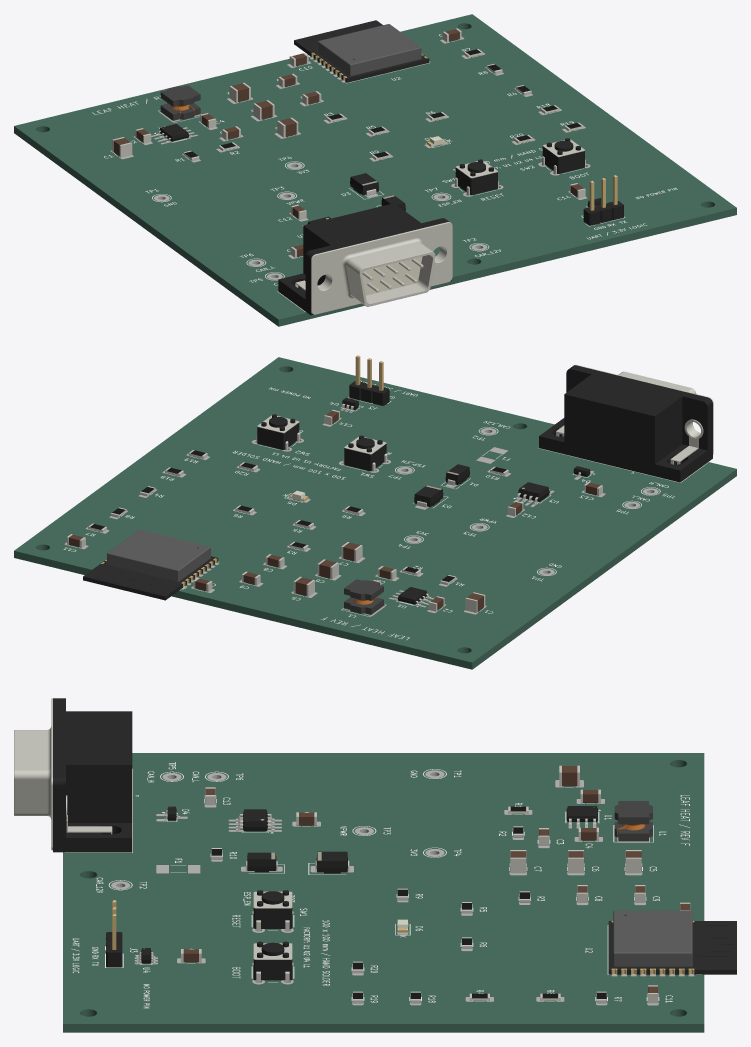
File: leaf-heat-rev-f.glb
3 views of the same model, one above another, from view 1: azimuth 30°, elevation 25°; view 2: azimuth 150°, elevation 25°; view 3: azimuth 270°, elevation 25° (orthographic). The views are drawn at different scales.
Parts seen in each view (by area): view 1: =>[0:1:1:35], =>[0:1:1:11], =>[0:1:1:7], =>[0:1:1:5] (×2), =>[0:1:1:33], =>[0:1:1:32], =>[0:1:1:19], =>[0:1:1:29]; view 2: =>[0:1:1:35], =>[0:1:1:11], =>[0:1:1:7], =>[0:1:1:33], =>[0:1:1:32], =>[0:1:1:5] (×2), =>[0:1:1:19], =>[0:1:1:29]; view 3: =>[0:1:1:35], =>[0:1:1:11], =>[0:1:1:7], =>[0:1:1:33], =>[0:1:1:32], =>[0:1:1:5] (×2), =>[0:1:1:19], =>[0:1:1:29], =>[0:1:1:31], =>[0:1:1:15], =>[0:1:1:17], =>[0:1:1:25].
Part boxes in pixels (x1=…): =>[0:1:1:35]: x1=14, y1=14, x2=736, y2=326; =>[0:1:1:11]: x1=278, y1=203, x2=452, y2=315; =>[0:1:1:7]: x1=294, y1=20, x2=429, y2=82; =>[0:1:1:5] (×2): x1=455, y1=138, x2=585, y2=195; =>[0:1:1:33]: x1=92, y1=34, x2=677, y2=311; =>[0:1:1:32]: x1=111, y1=37, x2=590, y2=279; =>[0:1:1:19]: x1=160, y1=85, x2=200, y2=121; =>[0:1:1:29]: x1=583, y1=175, x2=623, y2=225; =>[0:1:1:35]: x1=14, y1=357, x2=736, y2=669; =>[0:1:1:11]: x1=539, y1=365, x2=713, y2=482; =>[0:1:1:7]: x1=83, y1=529, x2=218, y2=600; =>[0:1:1:33]: x1=63, y1=380, x2=708, y2=640; =>[0:1:1:32]: x1=64, y1=405, x2=658, y2=616; =>[0:1:1:5] (×2): x1=256, y1=414, x2=387, y2=471; =>[0:1:1:19]: x1=344, y1=579, x2=383, y2=615; =>[0:1:1:29]: x1=349, y1=355, x2=389, y2=405; =>[0:1:1:35]: x1=63, y1=753, x2=704, y2=1032; =>[0:1:1:11]: x1=14, y1=698, x2=132, y2=852; =>[0:1:1:7]: x1=608, y1=910, x2=736, y2=974; =>[0:1:1:33]: x1=65, y1=762, x2=702, y2=1008; =>[0:1:1:32]: x1=111, y1=770, x2=694, y2=1005; =>[0:1:1:5] (×2): x1=253, y1=890, x2=292, y2=982; =>[0:1:1:19]: x1=614, y1=801, x2=652, y2=841; =>[0:1:1:29]: x1=106, y1=900, x2=122, y2=967; =>[0:1:1:31]: x1=236, y1=809, x2=274, y2=831; =>[0:1:1:15]: x1=315, y1=851, x2=349, y2=873; =>[0:1:1:17]: x1=245, y1=852, x2=277, y2=872; =>[0:1:1:25]: x1=566, y1=806, x2=597, y2=825.
Bounding box in the file's own units: 0.1 × 0.0179 × 0.1127.
